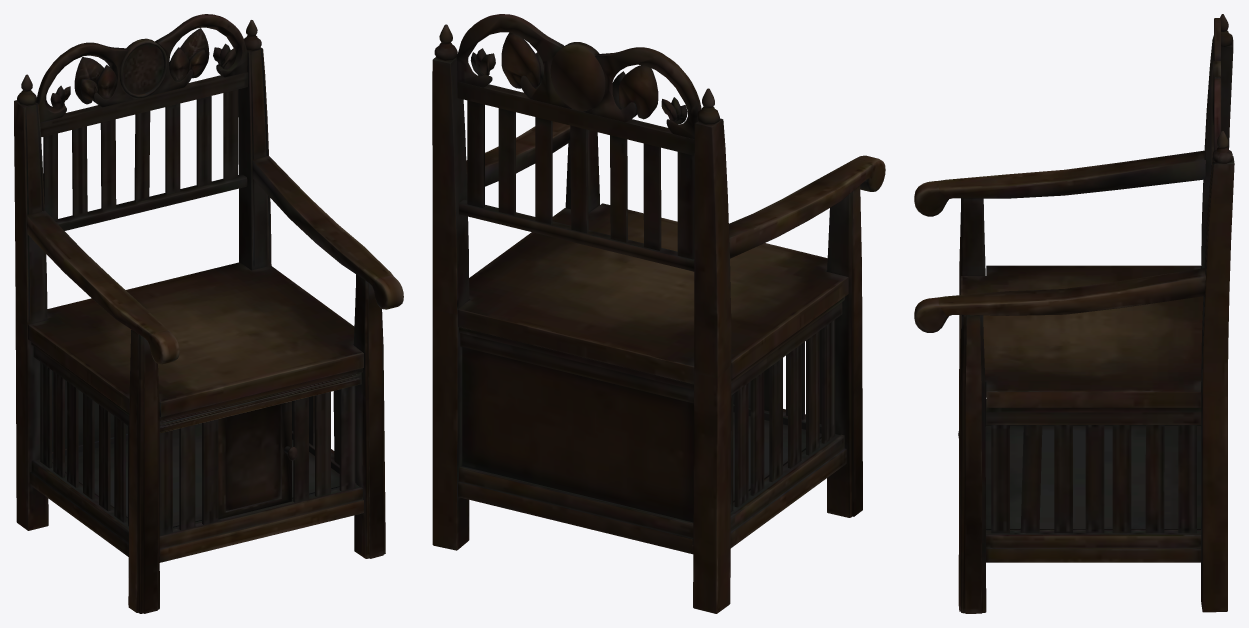
File: gallinera_chair.glb
The picture shows the model from 3 angles, left to right: view 1: azimuth 30°, elevation 25°; view 2: azimuth 150°, elevation 25°; view 3: azimuth 270°, elevation 25°; orthographic projection. The views are drawn at different scales.
Parts seen in each view (by area): view 1: gallinera_chair; view 2: gallinera_chair; view 3: gallinera_chair.
Part boxes in pixels (<box>): gallinera_chair: <box>14,14,403,613</box>; gallinera_chair: <box>432,14,885,613</box>; gallinera_chair: <box>914,14,1234,613</box>.
Size of the model in its own units: 0.5804 by 1.03 by 0.604.
Materials: 1 (1 with a texture image).
